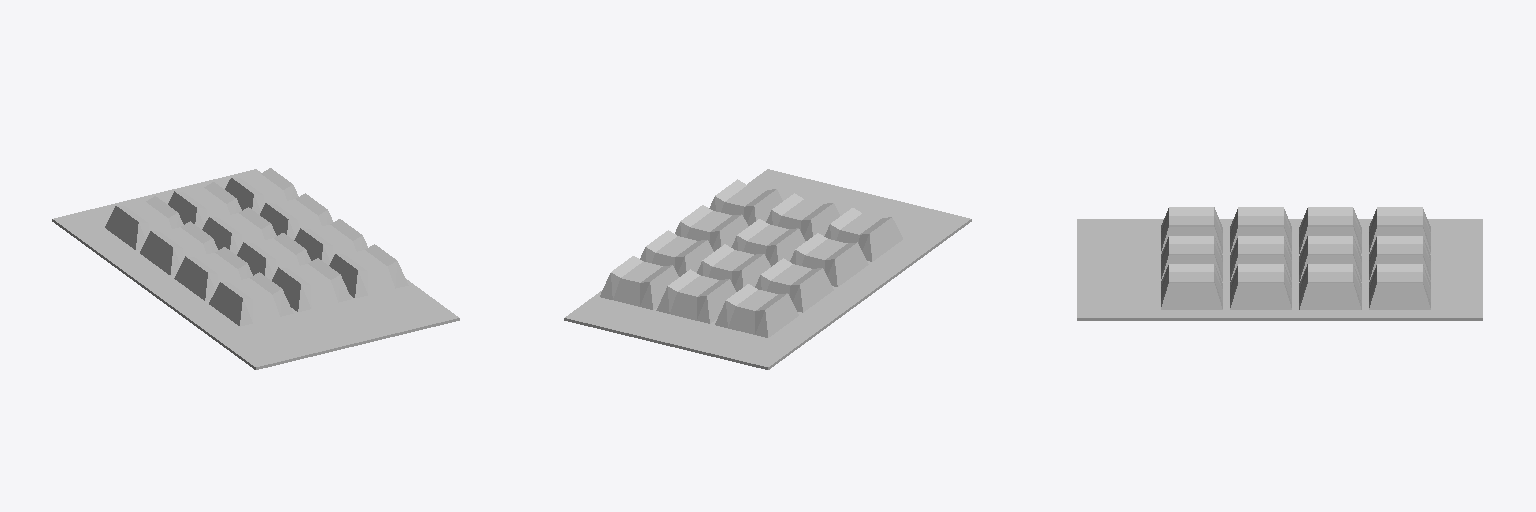
The model's file is keymatrix.obj.
3 renders of one model, left to right at view 1: azimuth 30°, elevation 25°; view 2: azimuth 150°, elevation 25°; view 3: azimuth 270°, elevation 25°, orthographic.
Visible parts, largest first — view 1: Board, Cube.012, Cube.013, Cube.014, Cube, Cube.006, Cube.009, Cube.010, Cube.007, Cube.001, Cube.008, Cube.011 (+1 smaller); view 2: Board, Cube, Cube.001, Cube.002, Cube.006, Cube.009, Cube.012, Cube.007, Cube.013, Cube.010, Cube.011, Cube.008 (+1 smaller); view 3: Board, Cube.008, Cube.002, Cube.011, Cube.014, Cube.006, Cube, Cube.009, Cube.012, Cube.007, Cube.001, Cube.010 (+1 smaller).
Part boxes in pixels (left/top/right/bottom): Board: left=52, top=169, right=459, bottom=369; Cube.012: left=209, top=272, right=293, bottom=326; Cube.013: left=272, top=258, right=351, bottom=311; Cube.014: left=329, top=244, right=408, bottom=297; Cube: left=105, top=196, right=183, bottom=249; Cube.006: left=140, top=221, right=217, bottom=275; Cube.009: left=174, top=247, right=252, bottom=300; Cube.010: left=237, top=233, right=311, bottom=280; Cube.007: left=202, top=207, right=276, bottom=254; Cube.001: left=168, top=182, right=241, bottom=229; Cube.008: left=260, top=193, right=332, bottom=239; Cube.011: left=294, top=219, right=367, bottom=265; Board: left=564, top=169, right=971, bottom=369; Cube: left=715, top=284, right=798, bottom=337; Cube.001: left=656, top=269, right=735, bottom=323; Cube.002: left=600, top=256, right=678, bottom=309; Cube.006: left=755, top=258, right=833, bottom=312; Cube.009: left=790, top=233, right=868, bottom=286; Cube.012: left=824, top=208, right=902, bottom=261; Cube.007: left=697, top=244, right=770, bottom=291; Cube.013: left=766, top=193, right=839, bottom=240; Cube.010: left=731, top=219, right=805, bottom=266; Cube.011: left=675, top=205, right=748, bottom=251; Cube.008: left=640, top=230, right=713, bottom=276; Board: left=1077, top=219, right=1482, bottom=320; Cube.008: left=1299, top=264, right=1361, bottom=309; Cube.002: left=1369, top=264, right=1430, bottom=309; Cube.011: left=1230, top=264, right=1291, bottom=309; Cube.014: left=1161, top=264, right=1222, bottom=309; Cube.006: left=1299, top=207, right=1361, bottom=253; Cube: left=1369, top=207, right=1430, bottom=253; Cube.009: left=1230, top=207, right=1291, bottom=253; Cube.012: left=1161, top=207, right=1222, bottom=253; Cube.007: left=1299, top=236, right=1361, bottom=281; Cube.001: left=1369, top=236, right=1430, bottom=281; Cube.010: left=1230, top=236, right=1291, bottom=281.
Bounding box in the file's own units: 2 × 0.283 × 3.45.